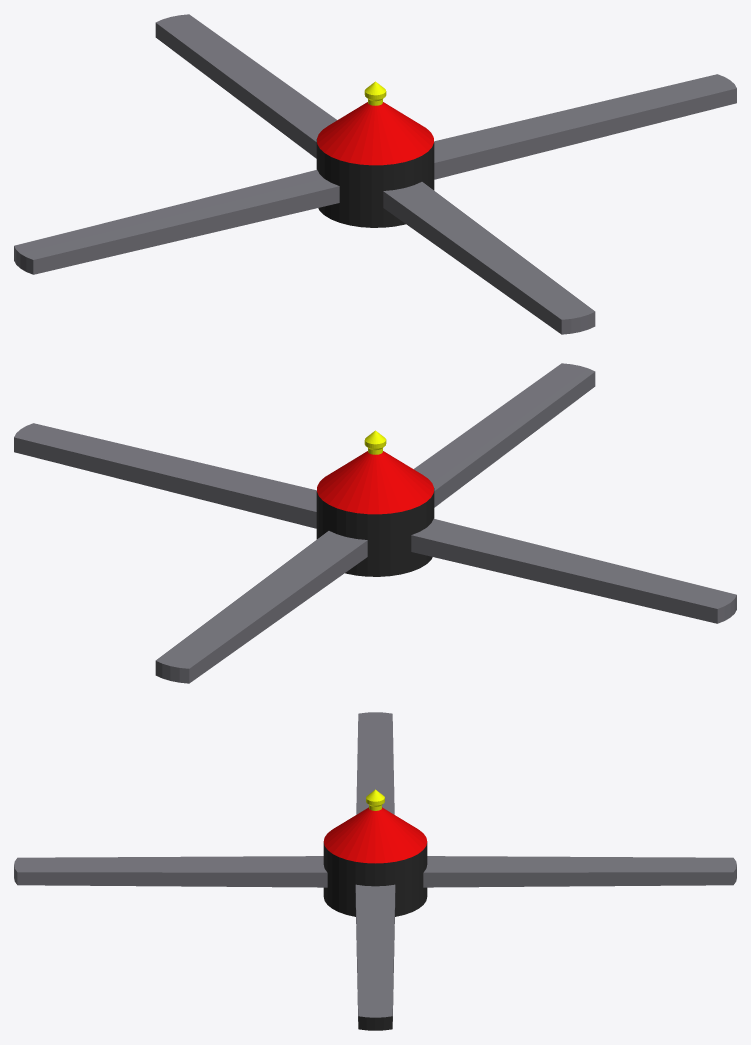
The model's file is shaker_kreuz.glb.
The picture shows the model from 3 angles, top to bottom: view 1: azimuth 30°, elevation 25°; view 2: azimuth 150°, elevation 25°; view 3: azimuth 270°, elevation 25°; orthographic projection. The views are drawn at different scales.
Visible parts, largest first — view 1: Cylinder; view 2: Cylinder; view 3: Cylinder.
Boxes of the visible parts, left/top/right/bottom form: Cylinder: left=14, top=14, right=736, bottom=334; Cylinder: left=14, top=363, right=736, bottom=683; Cylinder: left=14, top=712, right=736, bottom=1030.
Bounding box in the file's own units: 8.45 × 1.38 × 8.45.
